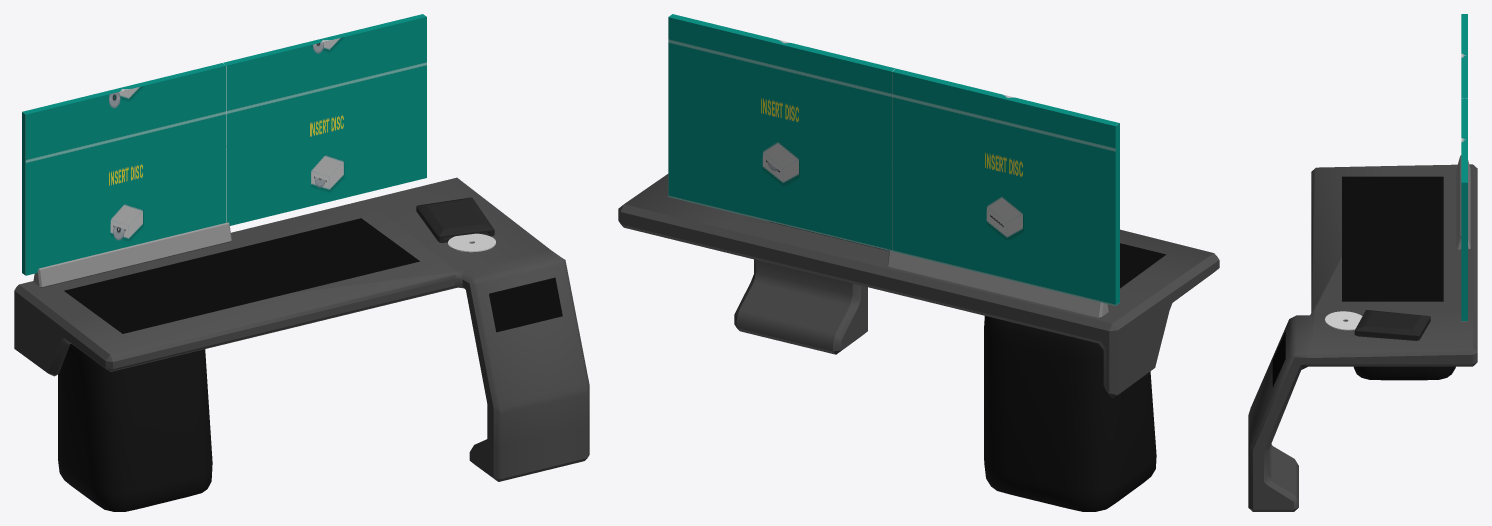
Rendered from InsertCD_Animation.fbx.
The picture shows the model from 3 angles, left to right: view 1: azimuth 30°, elevation 25°; view 2: azimuth 150°, elevation 25°; view 3: azimuth 270°, elevation 25°; orthographic projection. The views are drawn at different scales.
Parts seen in each view (by area): view 1: Screen, PCTable, Base, Keyboard, Stand, Deco, CDReader001, CD001; view 2: Screen, PCTable, Base, Stand, Keyboard; view 3: PCTable, Keyboard, Screen, CDReader001, Base, Stand, CD001, Deco.
Boxes of the visible parts, box(x1,y1,x2,y2) form: Screen: box(22, 14, 426, 275); PCTable: box(14, 177, 589, 481); Base: box(58, 344, 212, 511); Keyboard: box(64, 218, 419, 333); Stand: box(33, 222, 231, 287); Deco: box(489, 277, 562, 332); CDReader001: box(416, 197, 494, 242); CD001: box(448, 233, 495, 252); Screen: box(668, 14, 1119, 305); PCTable: box(618, 174, 1219, 398); Base: box(984, 316, 1156, 511); Stand: box(887, 251, 1108, 318); Keyboard: box(769, 221, 1166, 288); PCTable: box(1248, 164, 1477, 511); Keyboard: box(1342, 176, 1443, 301); Screen: box(1461, 14, 1467, 321); CDReader001: box(1354, 310, 1430, 340); Base: box(1353, 366, 1455, 380); Stand: box(1456, 155, 1470, 249); CD001: box(1325, 311, 1362, 330); Deco: box(1272, 331, 1285, 387).
Bounding box in the file's own units: 2372 × 1224 × 1847.
Materials: 7 (1 with a texture image).
